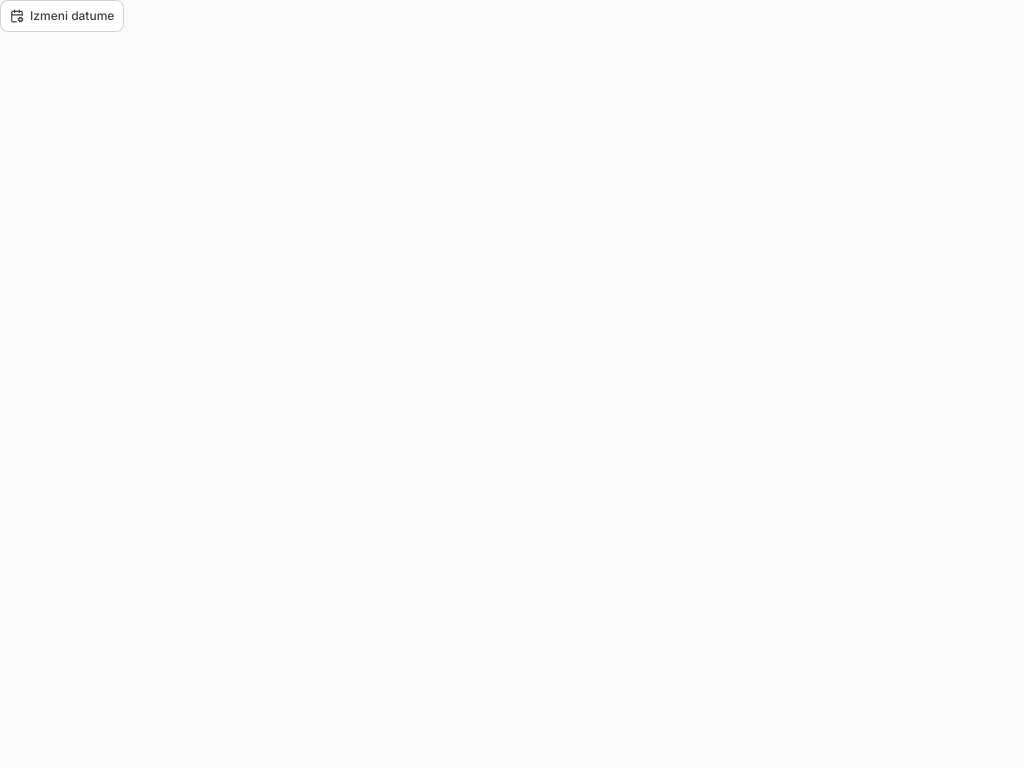
Test: EditPeriodDates › bez izmene ili sa krajem pre početka nema čuvanja
Click the button "Izmeni datume".
click(62, 16)  # box [0, 0, 124, 32]
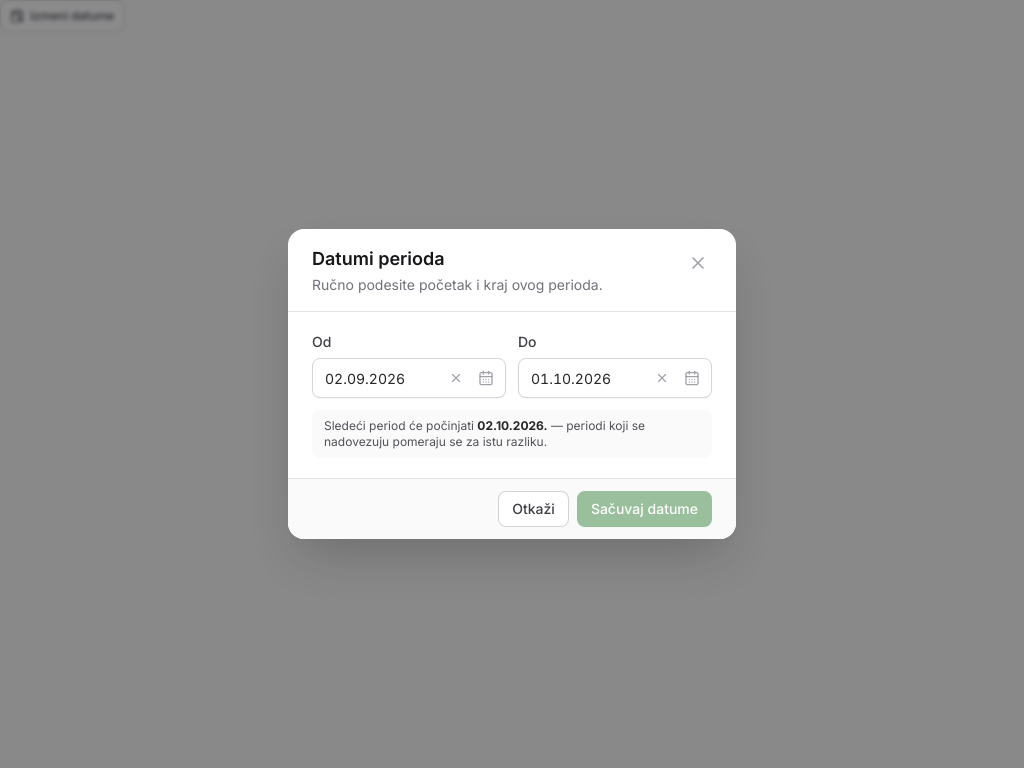
Result: the button "Sačuvaj datume" is disabled at [577, 491, 712, 527]
